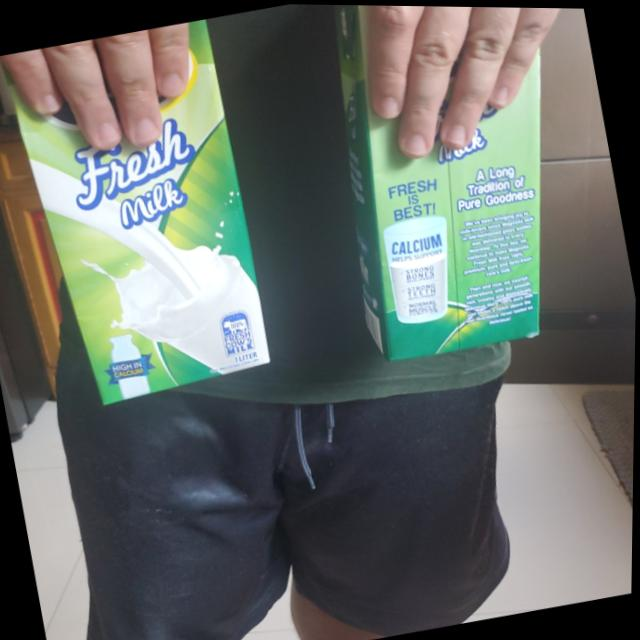milk: (298, 4, 594, 381), (0, 15, 278, 410)
